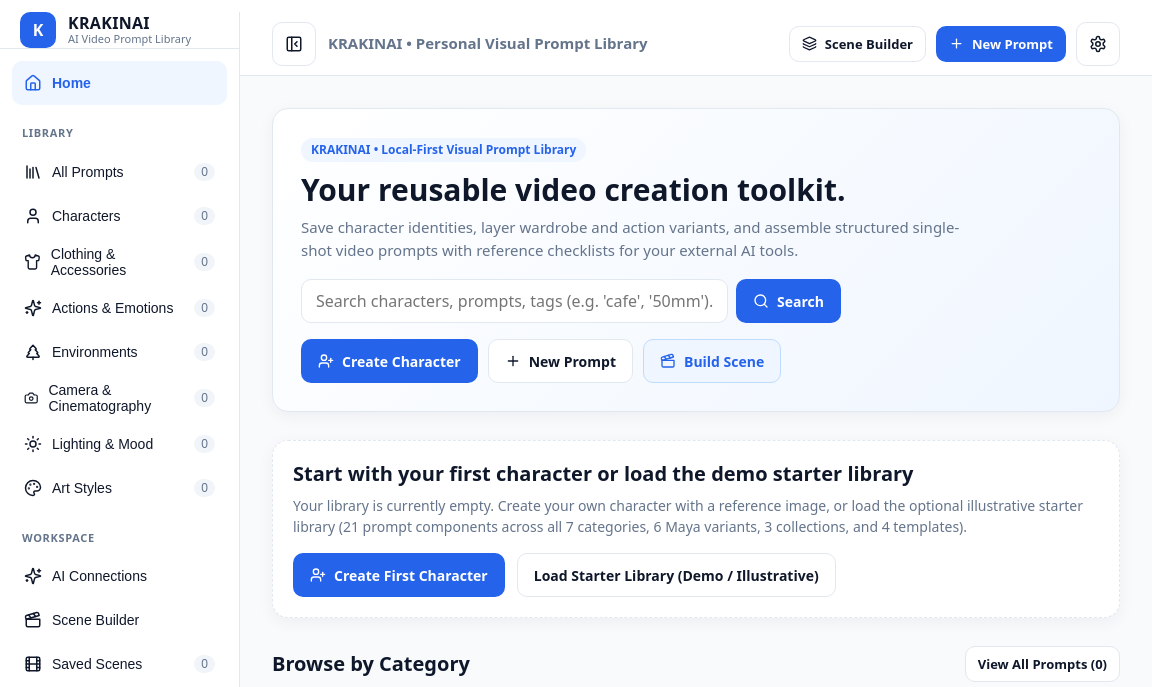
Test: Studio recipe workspace › collapses the desktop sidebar while preserving accessible route actions
Expected: the heading "Your reusable video creation toolkit." is shown, [301,169,846,210]
Step 1. Click the button named "Collapse sidebar" → (294, 44), box [272,22,316,66]
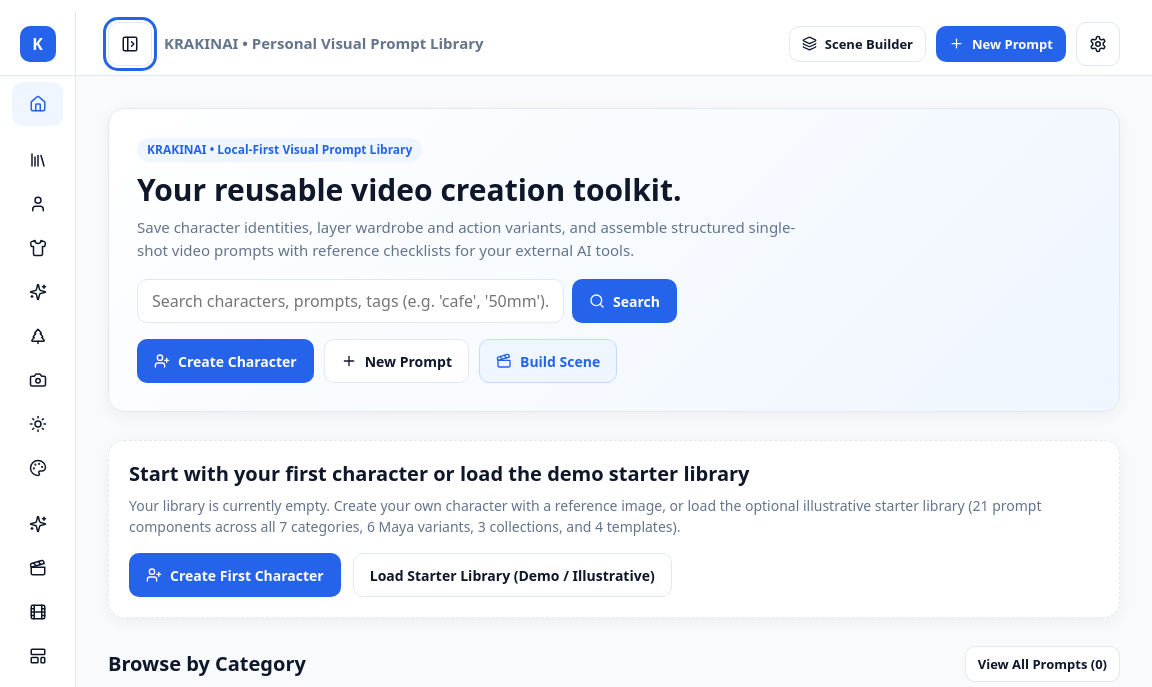
Result: the button named "Expand sidebar" is collapsed at [108,22,152,66]
Step 2. Click the button named "Scene Builder" → (38, 568), box [12,546,63,590]
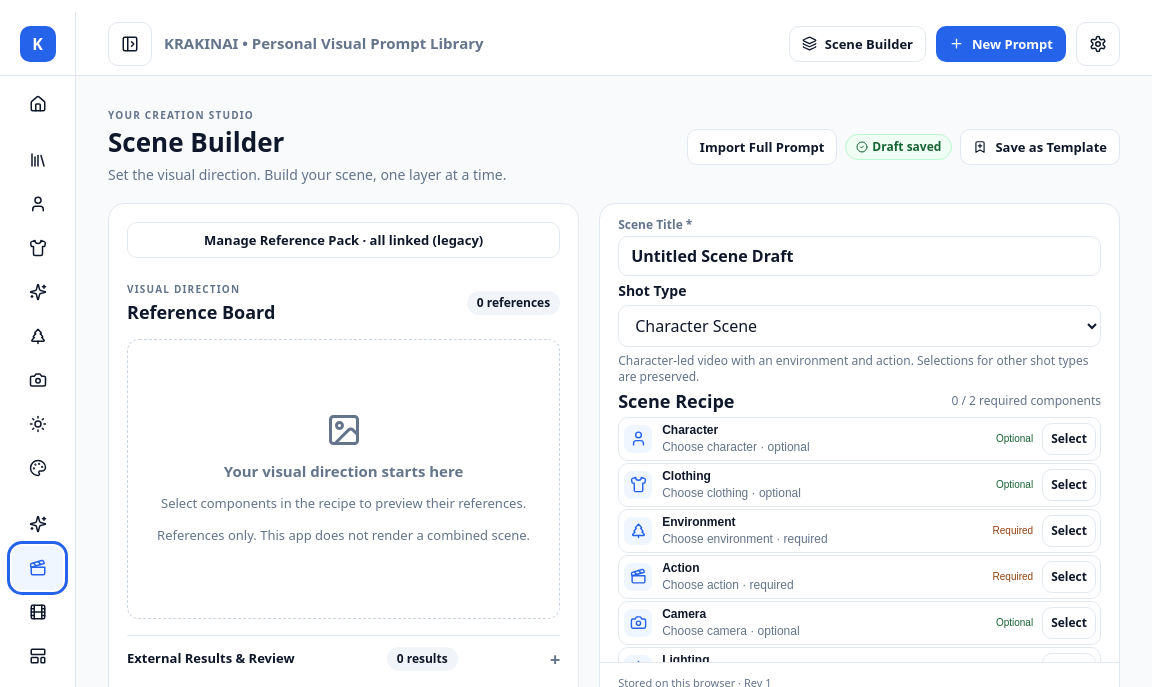
Result: the heading "Scene Builder" is shown at [108,124,284,160]
